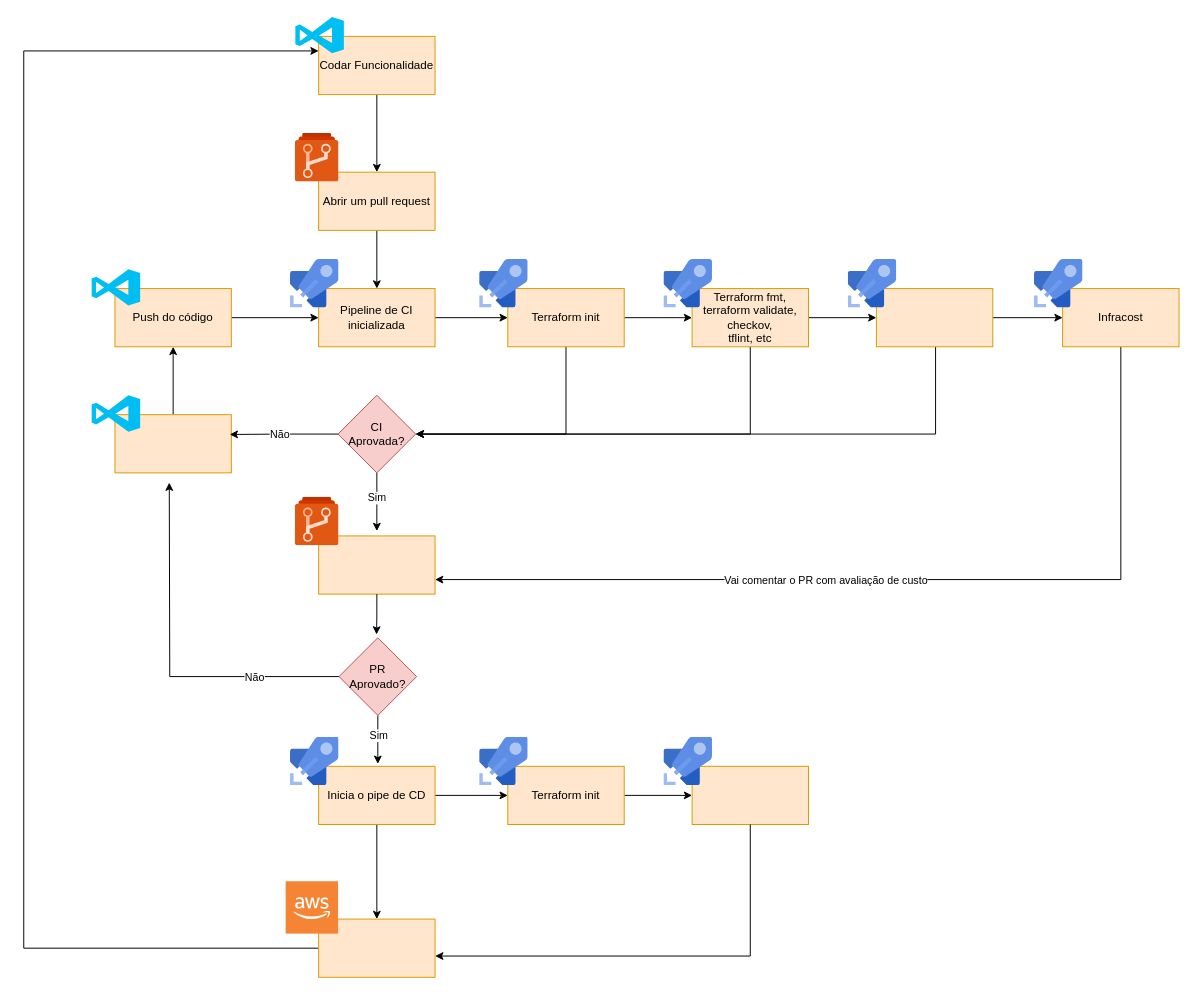
Image size: 1196x994. Some labels were removed from this diagram. Here are the shapes that lost their labels. From the top down, the centre of each, then its label:
point (934, 317): Terraform plan
point (172, 443): Revisar código e refatorar o que for nescessario
point (376, 564): Revisão do PR
point (749, 794): Terraform apply
point (376, 947): Validação no ambiente real
